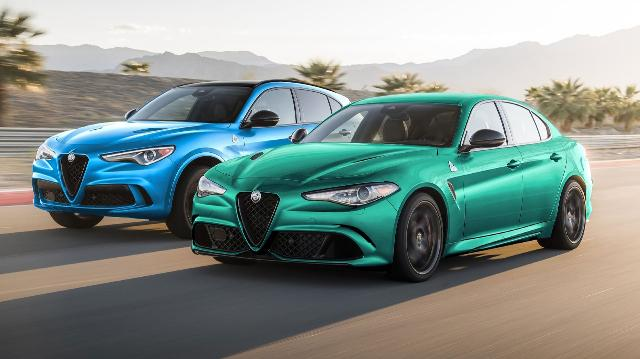alpha-romeo: (190, 94, 594, 286), (32, 78, 382, 242)
